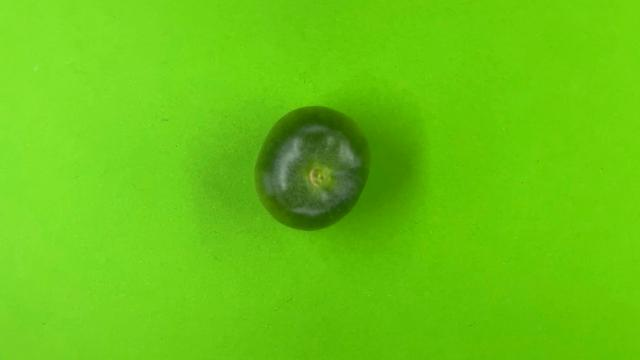Fruit Maturation: (254, 105, 371, 231)
